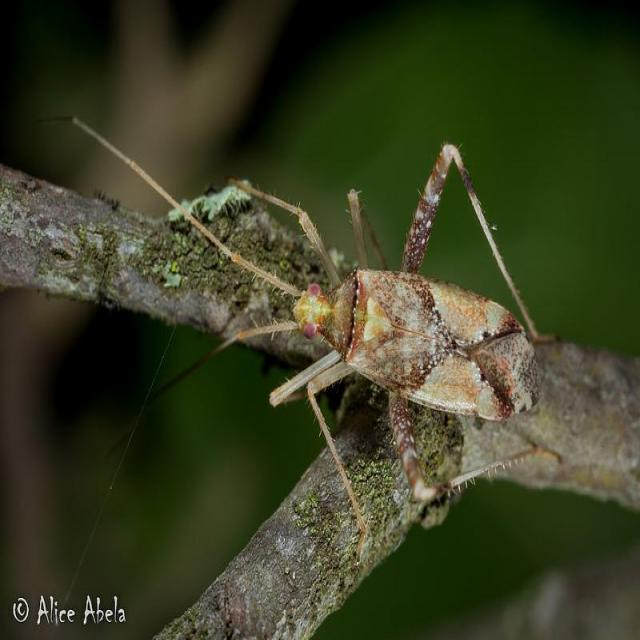Miridae-Adult-: (96, 94, 552, 500)
